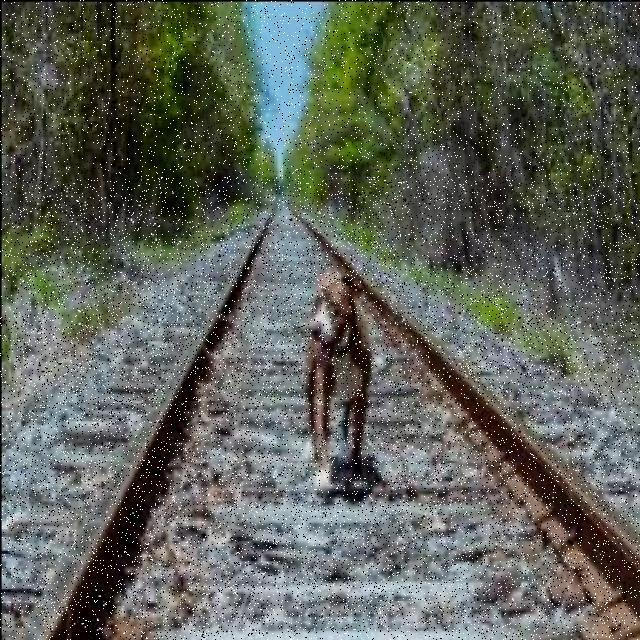danger: (297, 265, 377, 497)
rail: (9, 177, 640, 635)
